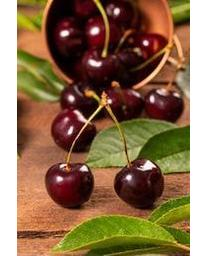cherry: (114, 158, 164, 208), (45, 162, 94, 208), (50, 110, 98, 153), (145, 89, 184, 124), (106, 87, 142, 121)
